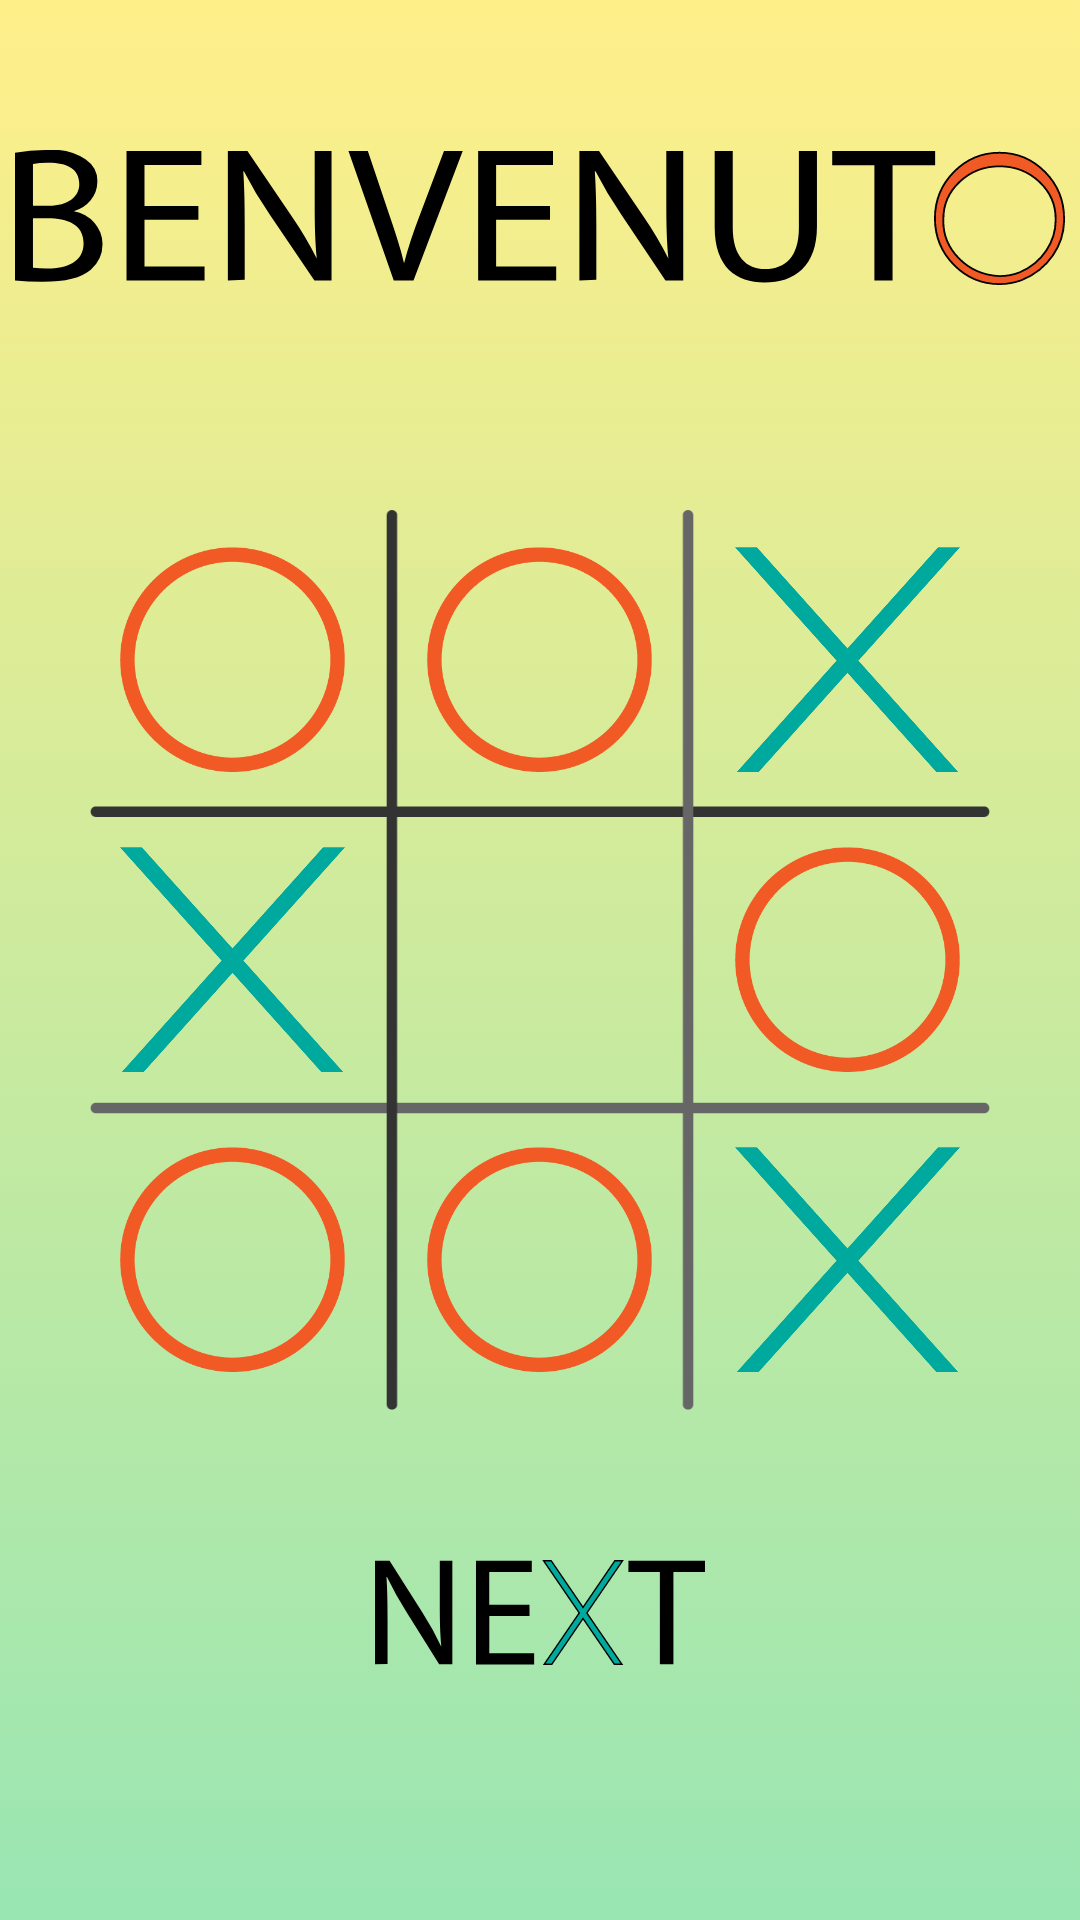

Icons on this 1080×1920 Android screen, each with the point to tap as (x=x, y=y):
osenzabordo: (x=232, y=659), (x=539, y=659), (x=847, y=959), (x=232, y=1259), (x=539, y=1259)
xsenzabordo: (x=847, y=659), (x=232, y=959), (x=847, y=1259)
